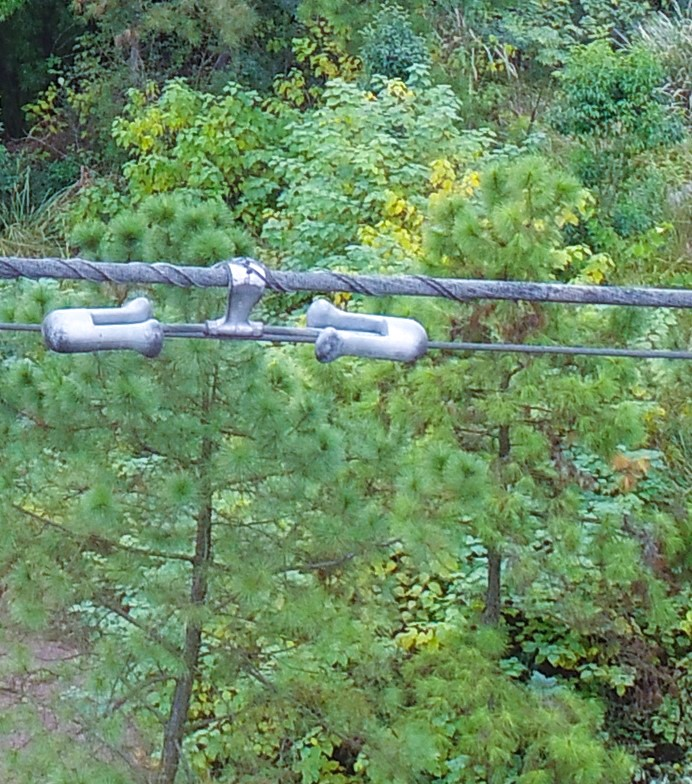Shockproof hammer: (33, 244, 437, 381)
